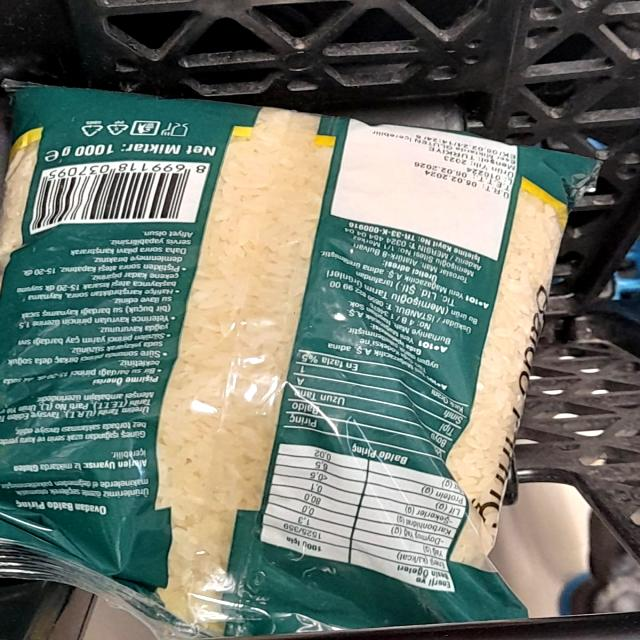rice: (0, 104, 629, 613)
